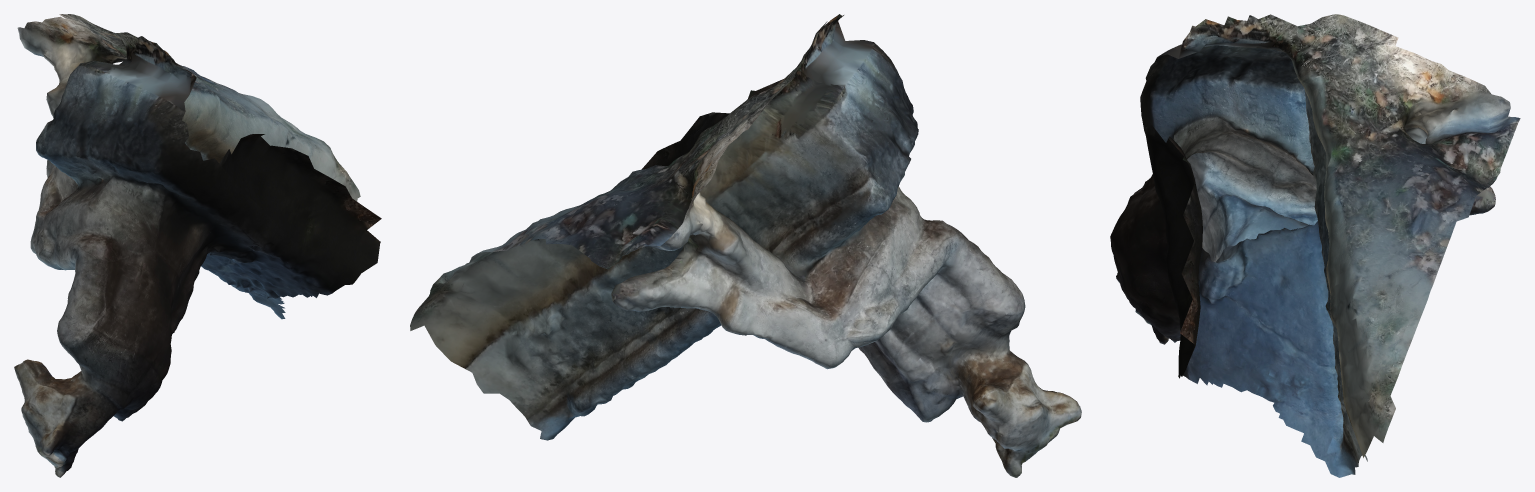
The model's file is fuchs.obj.
3 views of the same model, side by side, from view 1: azimuth 30°, elevation 25°; view 2: azimuth 150°, elevation 25°; view 3: azimuth 270°, elevation 25° (orthographic). The views are drawn at different scales.
Bounding box in the file's own units: 25.44 × 20.77 × 19.72.
